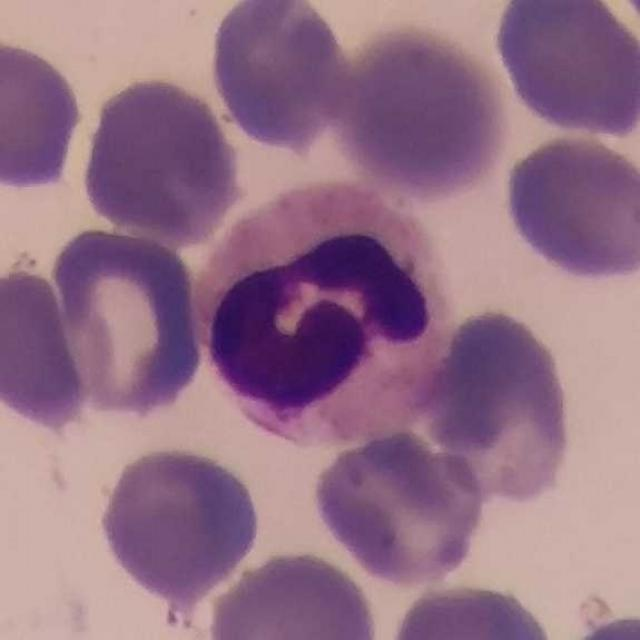Neutrophil: (187, 172, 461, 461)
RBC: (42, 220, 210, 423), (418, 303, 579, 511), (330, 20, 513, 200), (306, 424, 489, 589), (76, 71, 245, 245), (95, 441, 266, 602), (497, 130, 640, 286), (203, 0, 349, 151), (488, 0, 640, 140), (203, 545, 384, 640), (0, 264, 98, 430), (0, 32, 87, 195), (384, 576, 562, 640), (552, 607, 640, 640)
